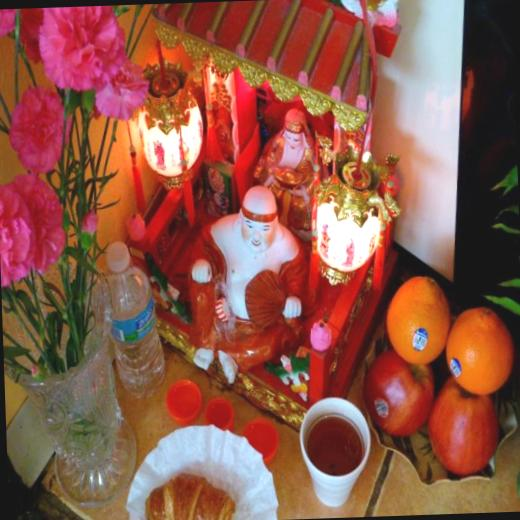Grape: (383, 272, 452, 365), (444, 306, 514, 394)
